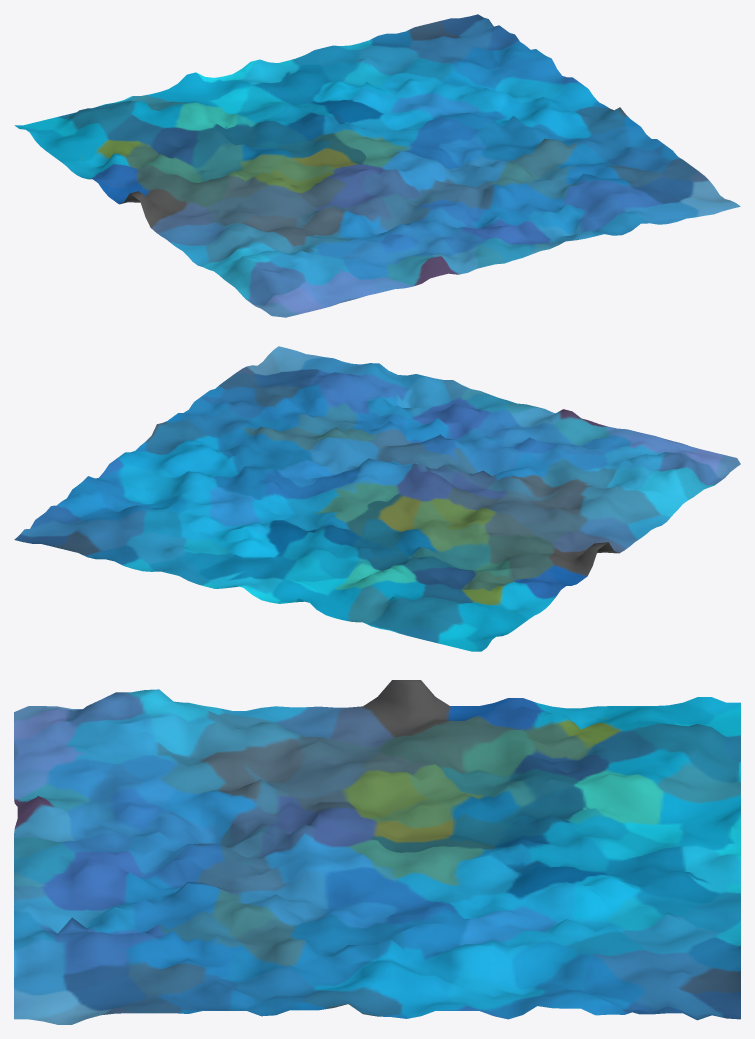
The picture shows the model from 3 angles, top to bottom: view 1: azimuth 30°, elevation 25°; view 2: azimuth 150°, elevation 25°; view 3: azimuth 270°, elevation 25°; orthographic projection. The views are drawn at different scales.
Parts seen in each view (by area): view 1: second_floor; view 2: second_floor; view 3: second_floor.
Part boxes in pixels (box(x1,y1,x2,y2)): second_floor: box(14, 14, 740, 317); second_floor: box(14, 346, 740, 651); second_floor: box(14, 680, 740, 1024).
Bounding box in the file's own units: 174 × 11.86 × 170.
Materials: 1 (1 with a texture image).
